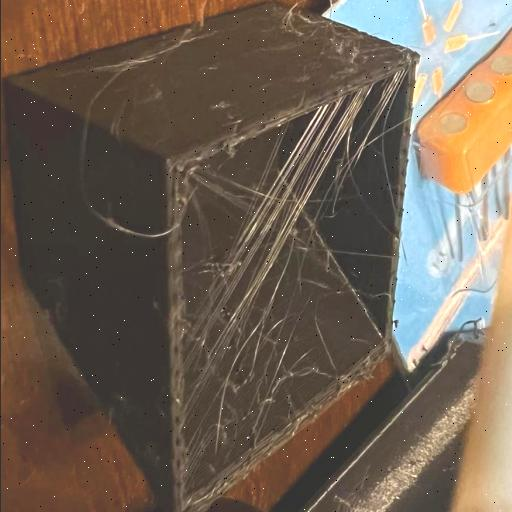stringing: (170, 210, 310, 460), (279, 74, 407, 238)
